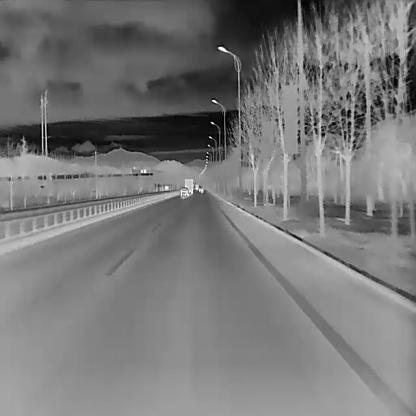car: (180, 186, 190, 198), (198, 186, 203, 193)
truck: (184, 178, 193, 194)
